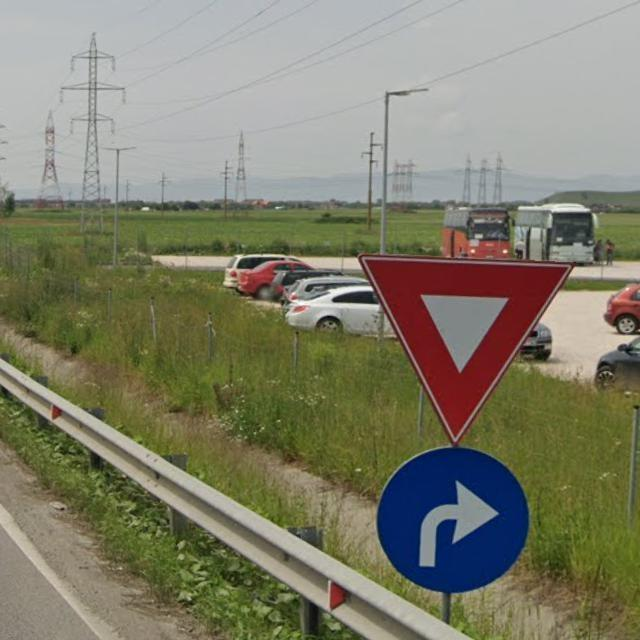prio_give_way: (353, 252, 566, 448)
